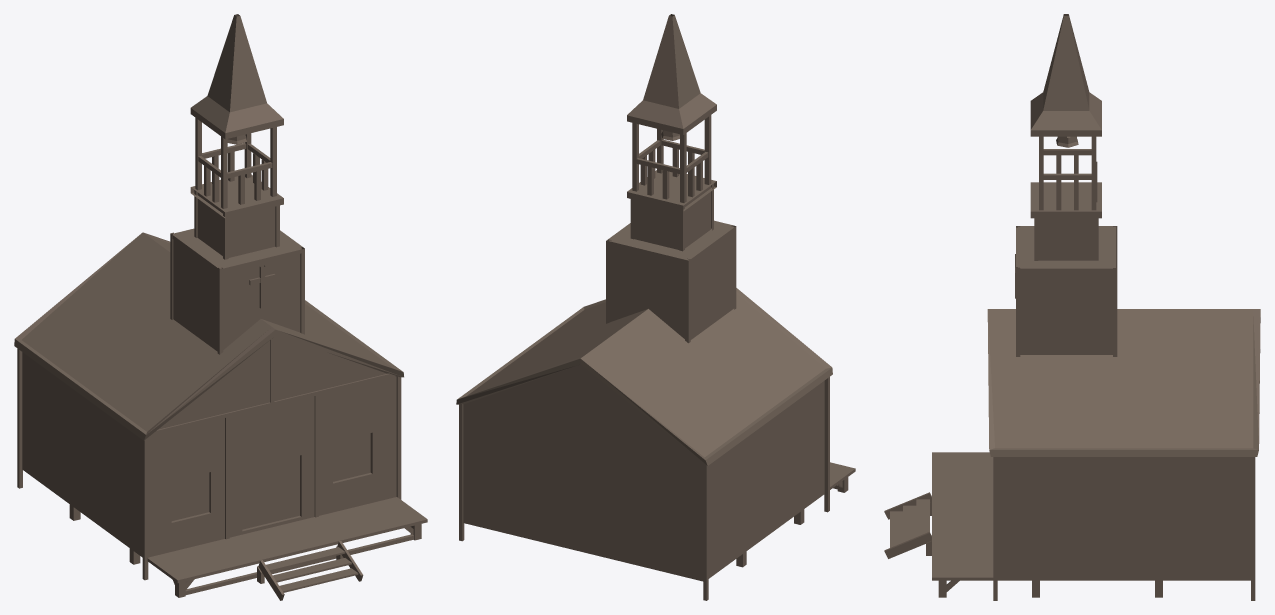
Rendered from church.lod2.glb.
3 renders of one model, left to right at view 1: azimuth 30°, elevation 25°; view 2: azimuth 150°, elevation 25°; view 3: azimuth 270°, elevation 25°, orthographic. The views are drawn at different scales.
Parts seen in each view (by area): view 1: Object079_Material #30_0; view 2: Object079_Material #30_0; view 3: Object079_Material #30_0.
Part boxes in pixels (bbox=[...]): Object079_Material #30_0: bbox=[14, 14, 427, 600]; Object079_Material #30_0: bbox=[456, 14, 855, 600]; Object079_Material #30_0: bbox=[884, 14, 1260, 600].
Size of the model in its own units: 8.52 by 16 by 10.38.
